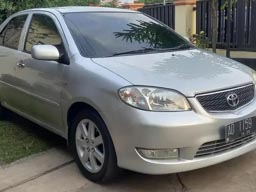plat: (226, 115, 253, 144)
